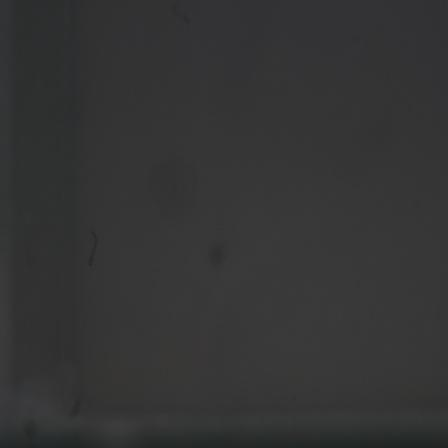Jentik-Nyamuk: (84, 223, 102, 273)
